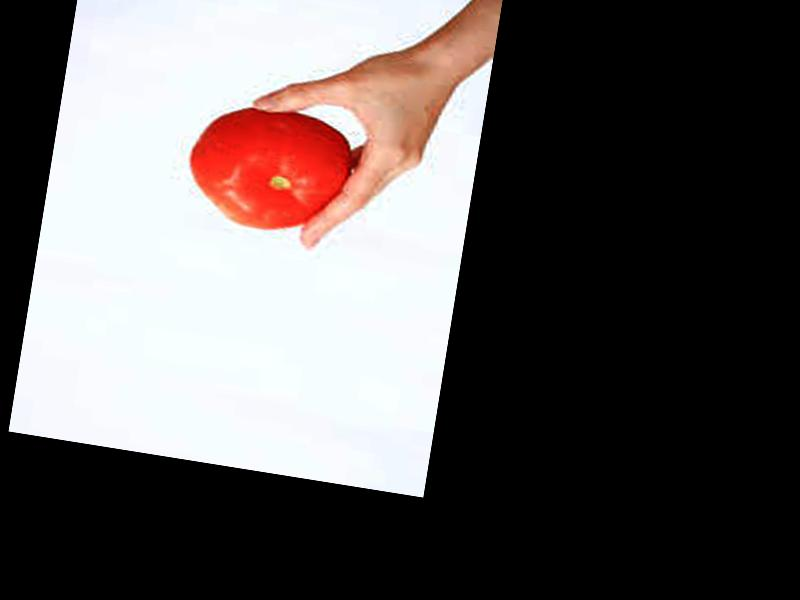Tomato: (182, 98, 354, 241)
